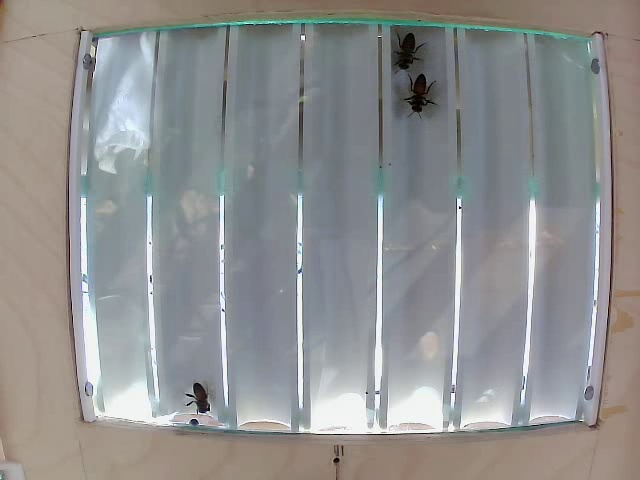bee: (391, 27, 426, 71), (411, 72, 439, 117), (186, 381, 212, 415)
